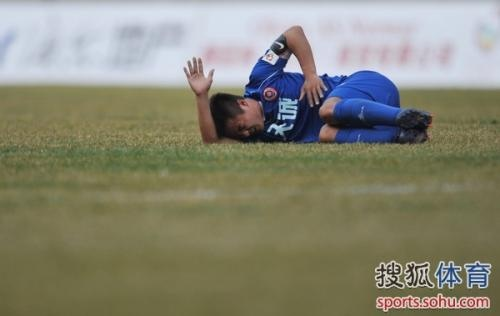falling: (175, 20, 439, 151)
